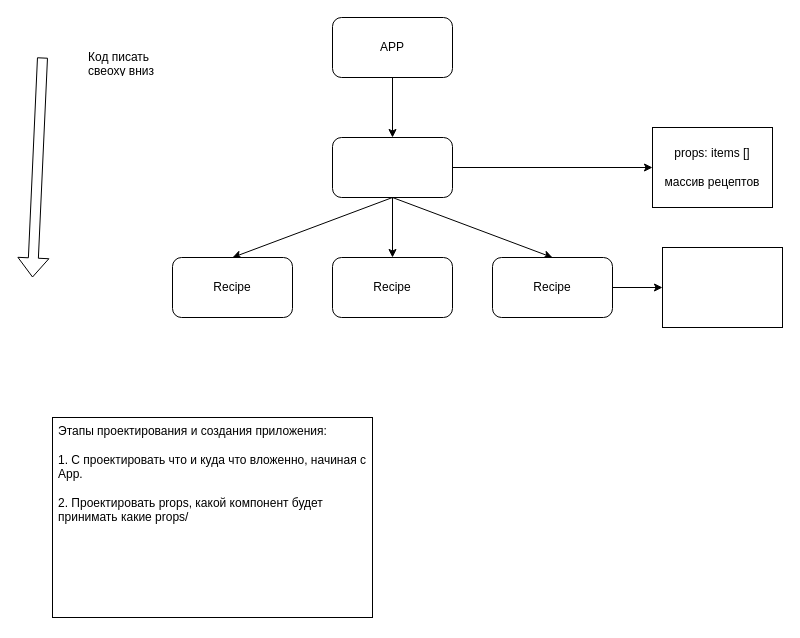
This 800x638 diagram has some shape labels left out. The shapes that lost their labels are listed below. From the top down, each one's centre as x and y in pixels, then its label:
At (392,167): "RecipeList".
At (722,287): "props: item {} объект рецептаю item".
